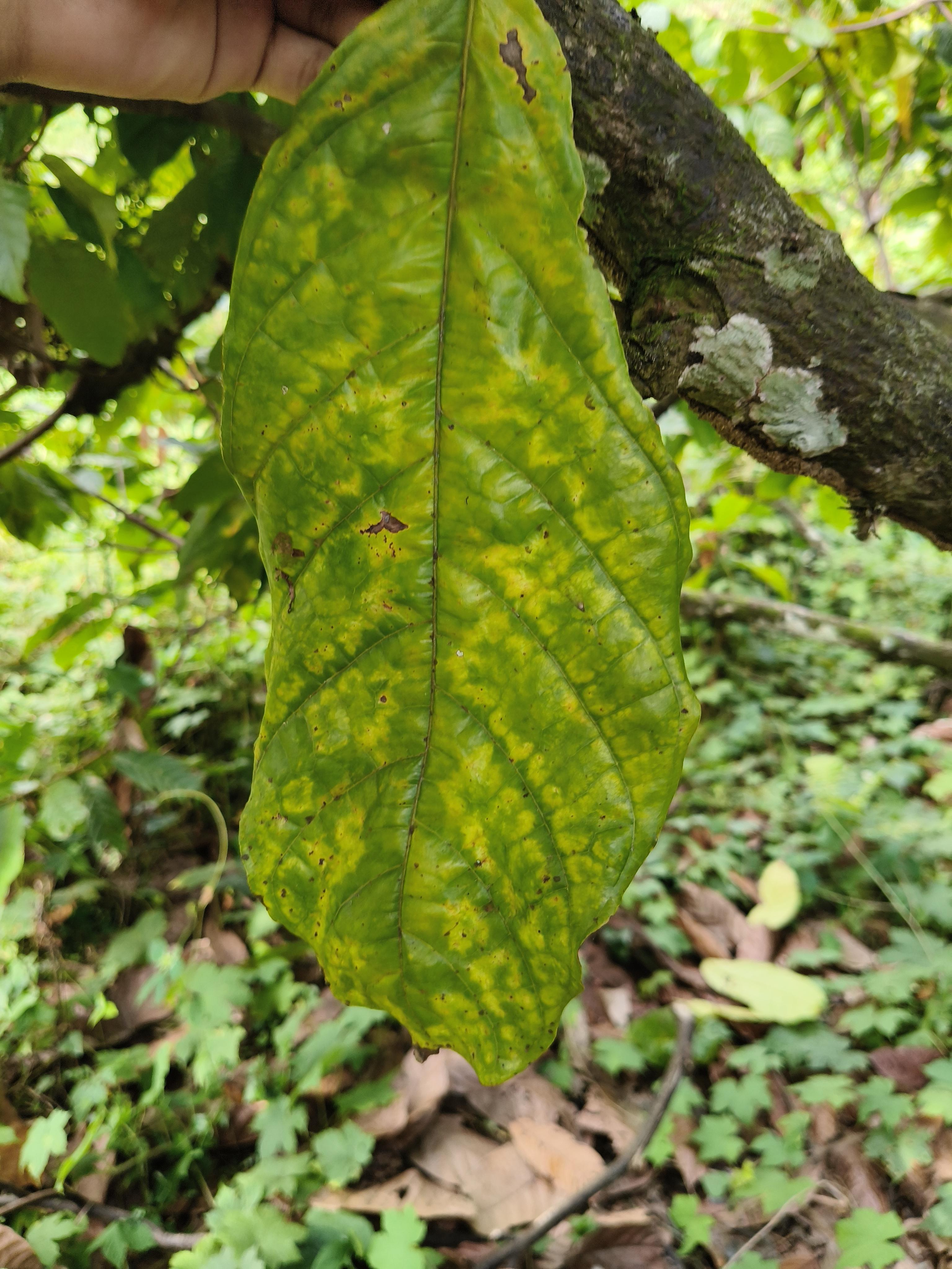deficiencia_potasio: (219, 0, 711, 1118)
